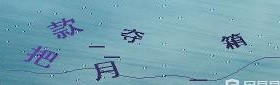chinese: (20, 44, 56, 69), (47, 21, 79, 39), (92, 60, 119, 79), (120, 24, 140, 46), (222, 31, 243, 49)
